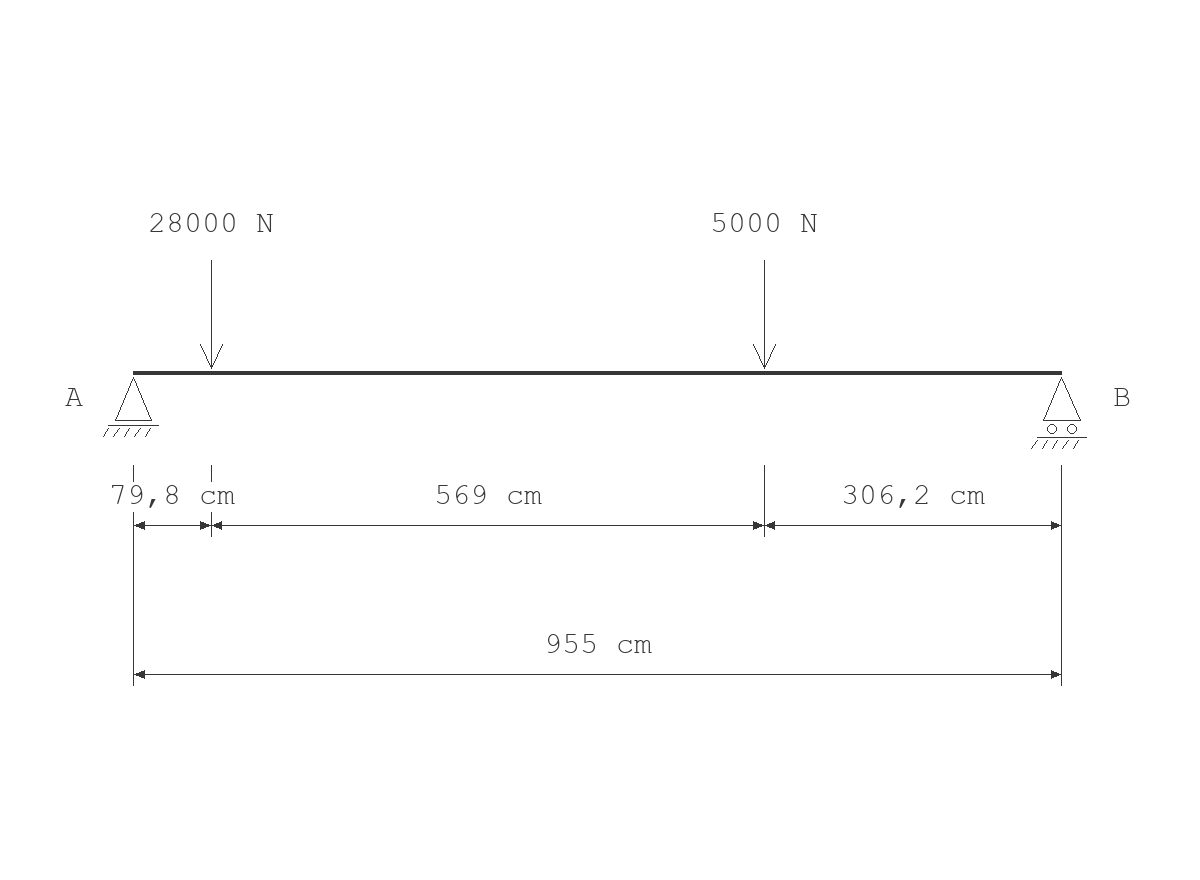pin_support: (103, 377, 159, 437)
point_load: (200, 260, 223, 369), (753, 260, 776, 369)
roller_support: (1031, 377, 1087, 449)
